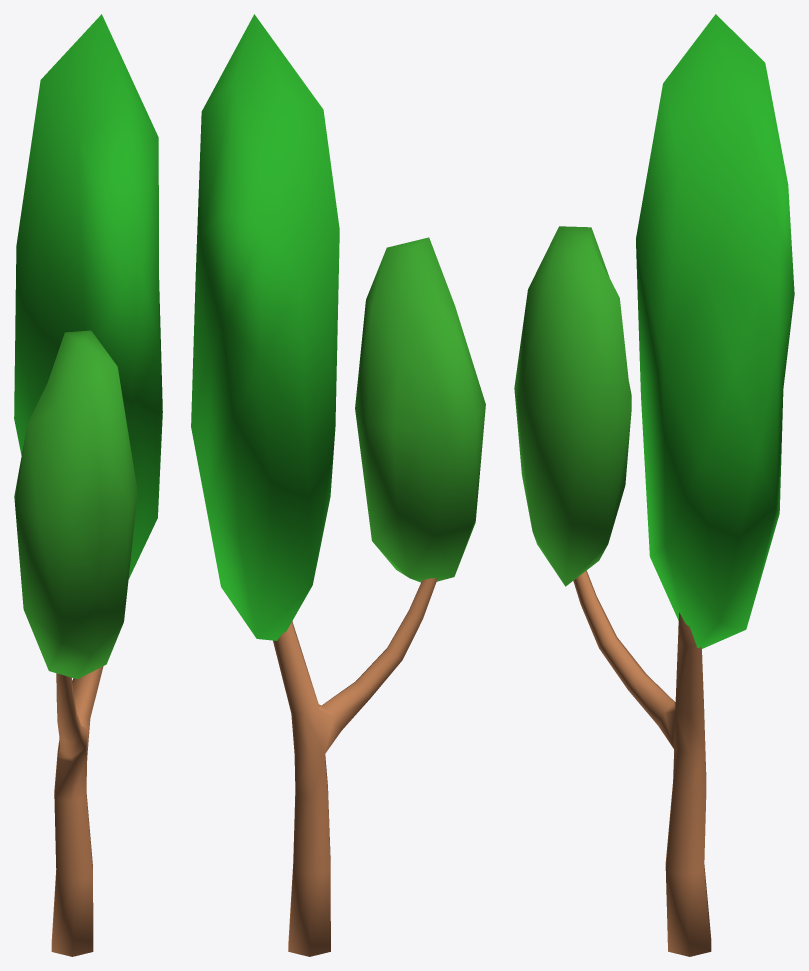
The model's file is TraHojbush4.FBX.
The picture shows the model from 3 angles, left to right: view 1: azimuth 30°, elevation 25°; view 2: azimuth 150°, elevation 25°; view 3: azimuth 270°, elevation 25°; orthographic projection. The views are drawn at different scales.
Parts seen in each view (by area): view 1: _GeoSphere020, _GeoSphere019, _Cylinder006; view 2: _GeoSphere020, _GeoSphere019, _Cylinder006; view 3: _GeoSphere020, _GeoSphere019, _Cylinder006.
Boxes of the visible parts, x1,y1,x2,y2 form: _GeoSphere020: [14, 14, 162, 578]; _GeoSphere019: [14, 330, 137, 679]; _Cylinder006: [51, 666, 103, 956]; _GeoSphere020: [191, 14, 339, 640]; _GeoSphere019: [355, 237, 485, 582]; _Cylinder006: [273, 578, 437, 956]; _GeoSphere020: [636, 14, 794, 648]; _GeoSphere019: [514, 226, 631, 586]; _Cylinder006: [573, 570, 711, 956].
Size of the model in its own units: 50.53 by 214 by 57.07.
